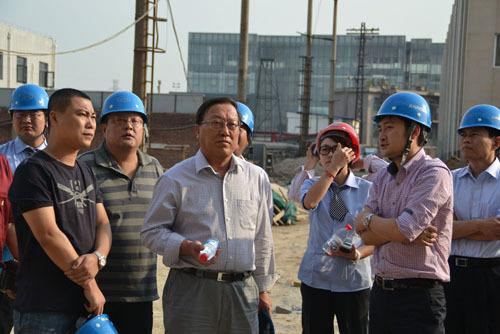hard-hat: (373, 90, 433, 129), (315, 121, 360, 164), (100, 90, 148, 122), (456, 103, 500, 132), (8, 83, 49, 110)
person: (138, 97, 277, 334), (6, 87, 112, 334), (348, 91, 455, 334), (76, 90, 166, 334), (297, 121, 376, 334), (445, 104, 500, 334)
